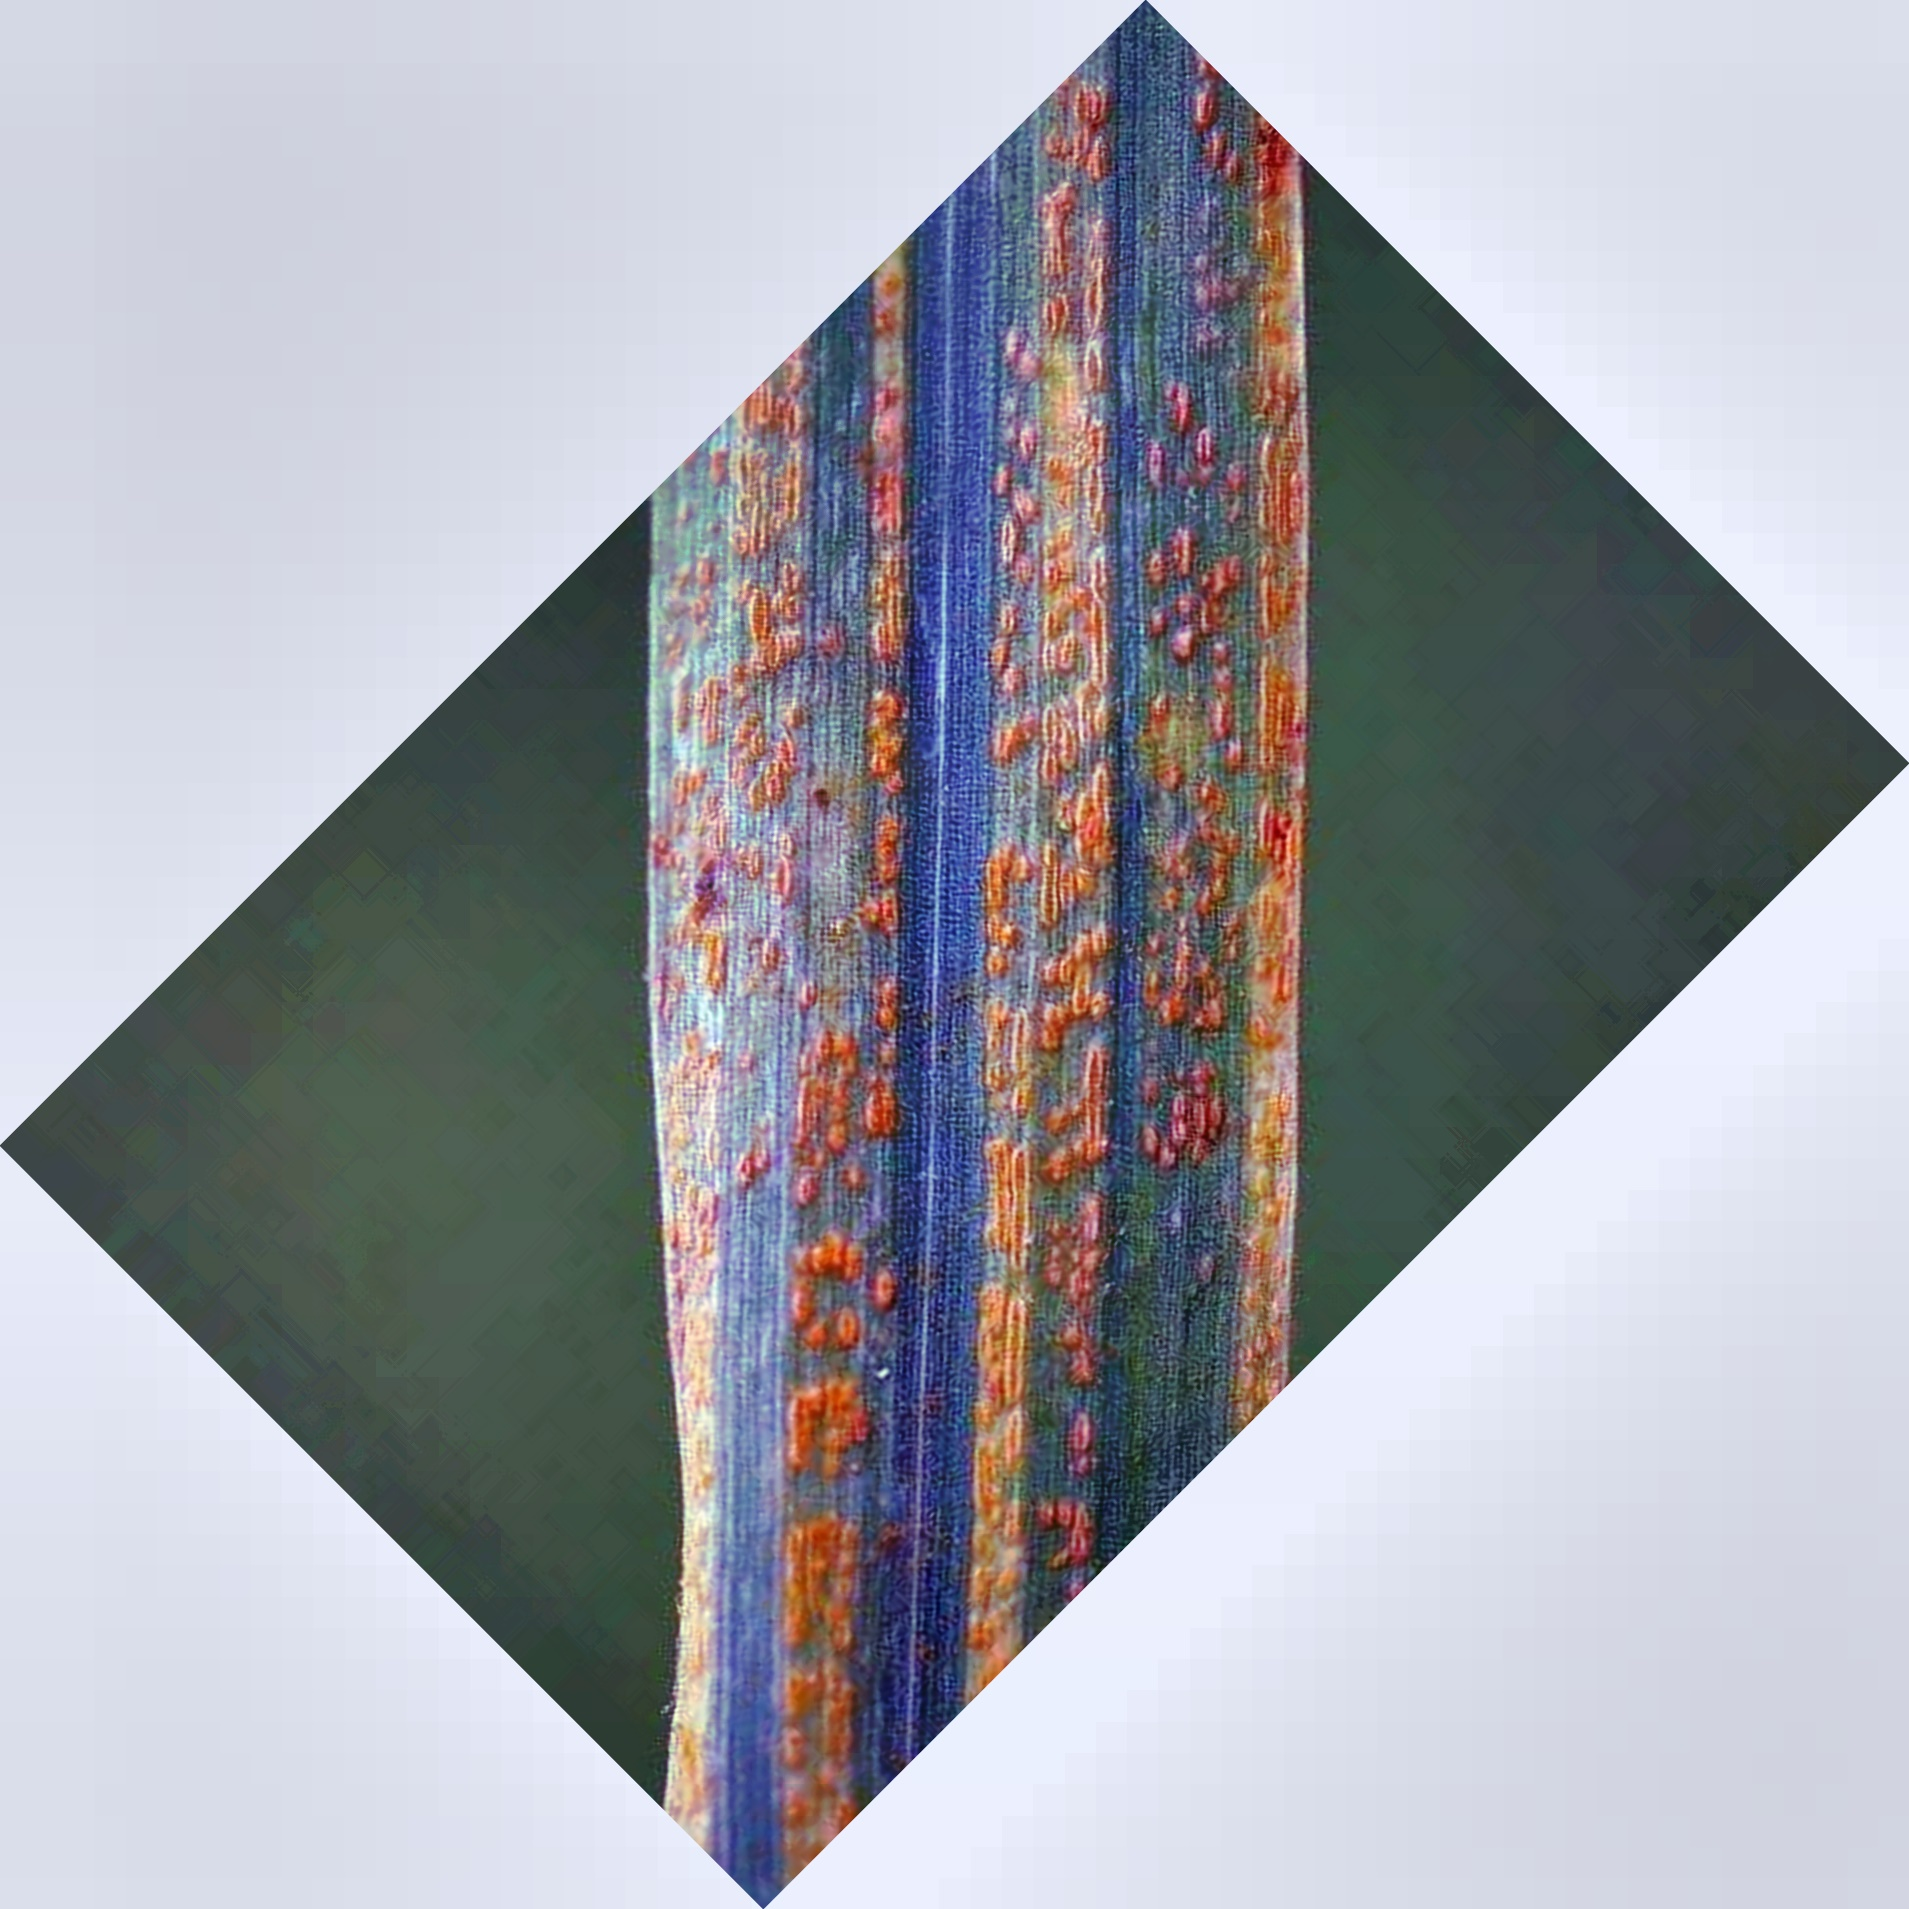Leaf Rust: (635, 444, 1327, 1579)
